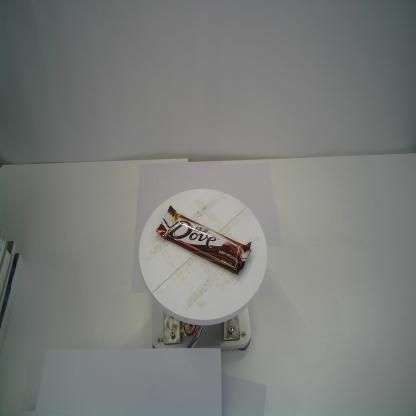Chocolate: (155, 204, 254, 276)
